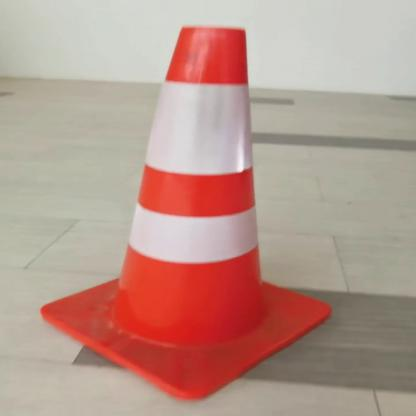cone: (25, 8, 341, 397)
